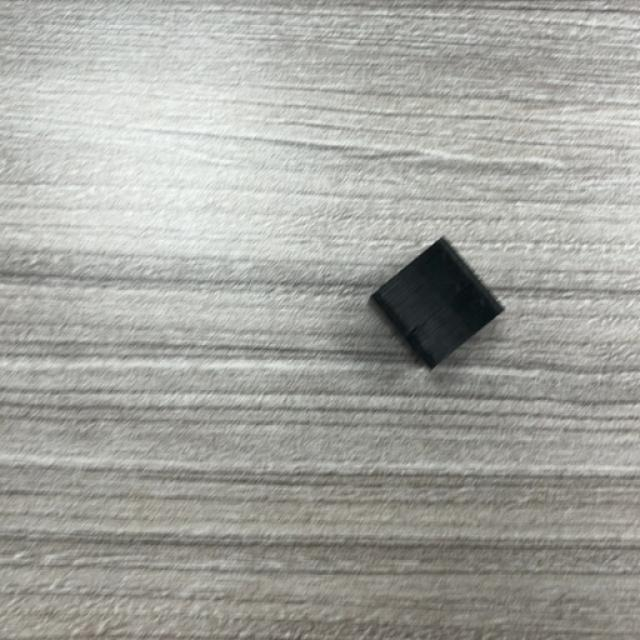Negro: (369, 239, 506, 371)
